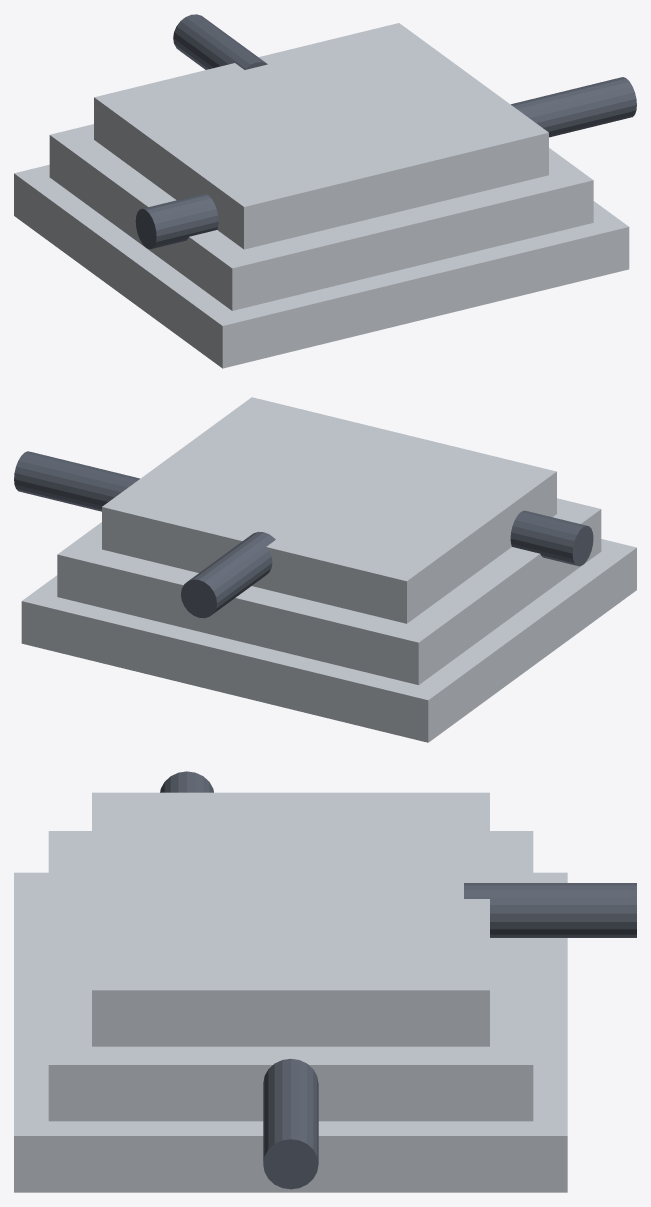
Rendered from wst-stage-manual.glb.
3 views of the same model, one above another, from view 1: azimuth 30°, elevation 25°; view 2: azimuth 150°, elevation 25°; view 3: azimuth 270°, elevation 25° (orthographic). The views are drawn at different scales.
Visible parts, largest first — view 1: silver motion deck (×3), black micrometer (×3); view 2: silver motion deck (×3), black micrometer (×3); view 3: silver motion deck (×3), black micrometer (×3).
Boxes of the visible parts, left/top/right/bottom form: silver motion deck (×3): left=14, top=23, right=629, bottom=368; black micrometer (×3): left=135, top=14, right=636, bottom=249; silver motion deck (×3): left=21, top=397, right=636, bottom=742; black micrometer (×3): left=14, top=451, right=593, bottom=618; silver motion deck (×3): left=14, top=792, right=567, bottom=1192; black micrometer (×3): left=160, top=771, right=636, bottom=1189.
Size of the model in its own units: 0.23 by 0.056 by 0.18.
